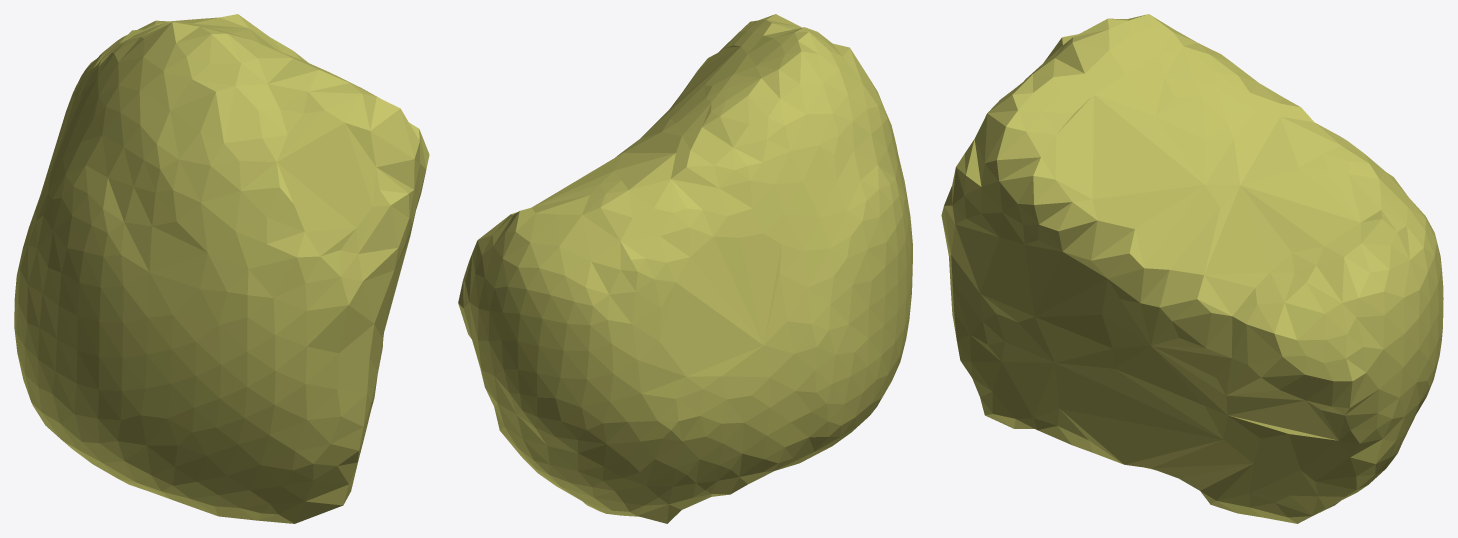
Rendered from Model_10476_LH__Ventral_cochlear_nucleus__posterior_part_(VCP).obj.
The picture shows the model from 3 angles, left to right: view 1: azimuth 30°, elevation 25°; view 2: azimuth 150°, elevation 25°; view 3: azimuth 270°, elevation 25°; orthographic projection. The views are drawn at different scales.
Size of the model in its own units: 1.2 by 1.49 by 1.51.
